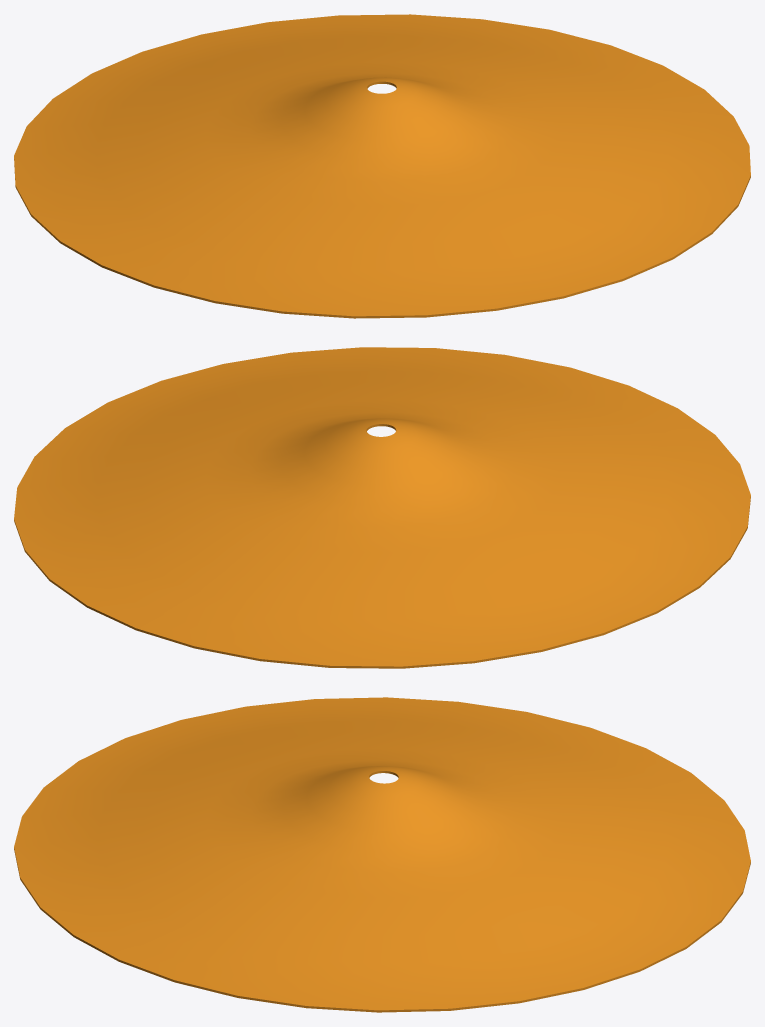
Rendered from ride 1.fbx.
3 renders of one model, top to bottom at view 1: azimuth 30°, elevation 25°; view 2: azimuth 150°, elevation 25°; view 3: azimuth 270°, elevation 25°, orthographic.
Visible parts, largest first — view 1: Circle.001; view 2: Circle.001; view 3: Circle.001.
Boxes of the visible parts, x1,y1,x2,y2 form: Circle.001: [14, 14, 750, 318]; Circle.001: [14, 347, 750, 668]; Circle.001: [14, 697, 750, 1012].
Size of the model in its own units: 46.74 by 5.91 by 46.73.
